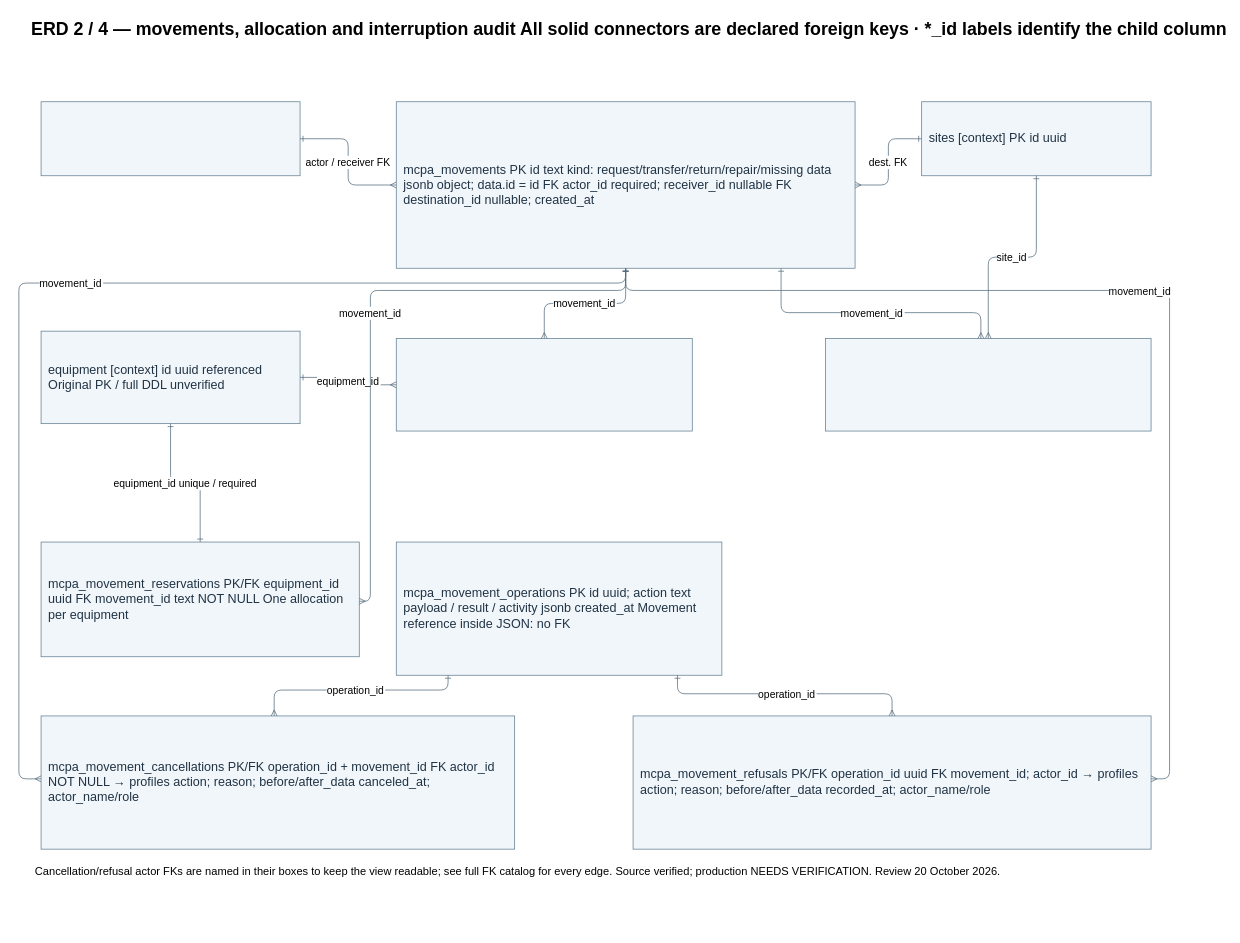
This 1240x943 diagram has some shape labels left out. Each missing label, with the centre of its shape:
"mcpa_movement_assets PK/FK movement_id text PK/FK equipment_id uuid" goes at (544,384).
"mcpa_movement_sites PK/FK movement_id text PK/FK site_id uuid" goes at (988,384).
"profiles [context] id uuid referenced" goes at (170,138).
